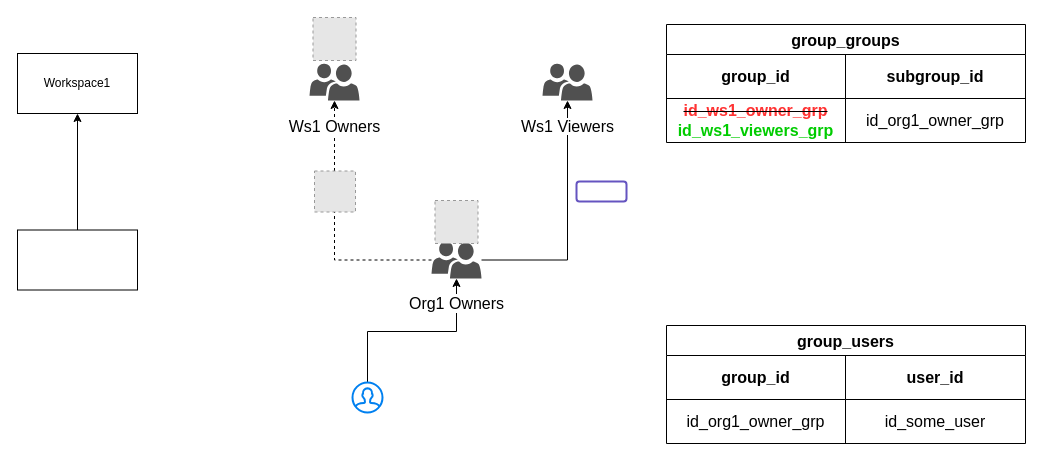
The diagram is 1043 pixels wide and 461 high, and some of its shapes have lost their labels. Grey dashed boxes stand in for pictures. The shapes that lost their labels are listed below. From the top down, each one's centre as x and y in pixels, then its label:
At [601,191]: "NEW".
At [77,259]: "Org1".
At [367,397]: "Some user".
